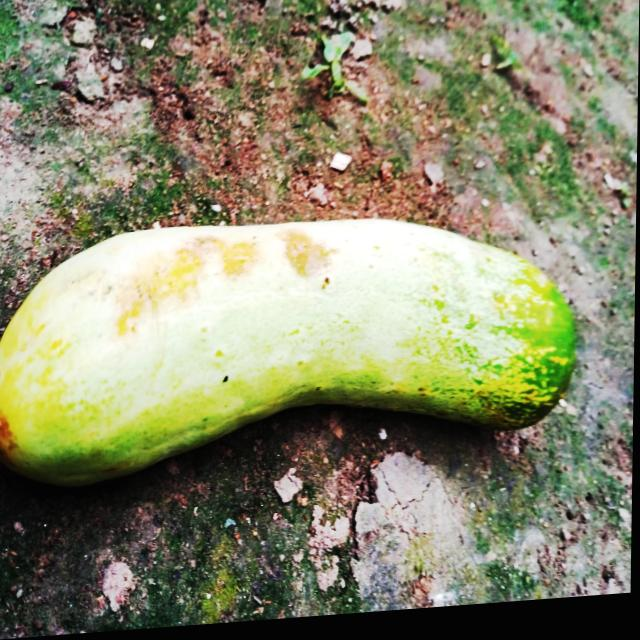Belly-Rot: (103, 227, 340, 351)
